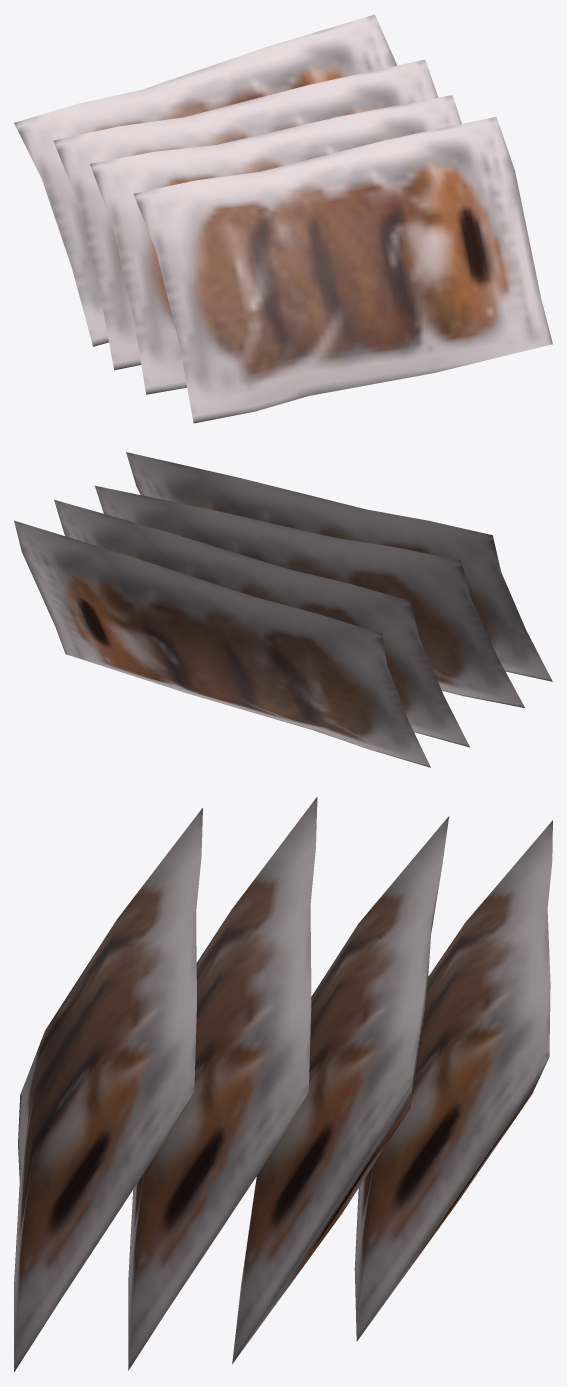
The model's file is dagasi07b.fbx.
3 views of the same model, one above another, from view 1: azimuth 30°, elevation 25°; view 2: azimuth 150°, elevation 25°; view 3: azimuth 270°, elevation 25° (orthographic). The views are drawn at different scales.
Visible parts, largest first — view 1: dagasi07b; view 2: dagasi07b; view 3: dagasi07b.
Part boxes in pixels (left/top/right/bottom): dagasi07b: left=14, top=14, right=552, bottom=423; dagasi07b: left=14, top=452, right=552, bottom=767; dagasi07b: left=14, top=797, right=552, bottom=1372.
Size of the model in its own units: 29.5 by 15.53 by 23.81.
